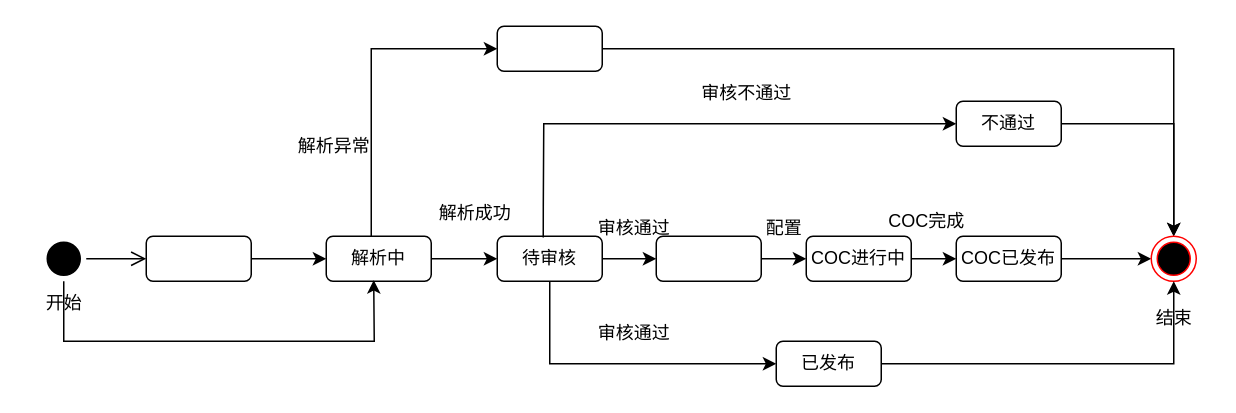
The diagram is 1236 pixels wide and 413 high, and some of its shapes have lost their labels. Each missing label, with the centre of its shape:
"待COC配置" belongs at [708,258].
"手册传输中" belongs at [198,258].
"解析失败" belongs at [549,48].
